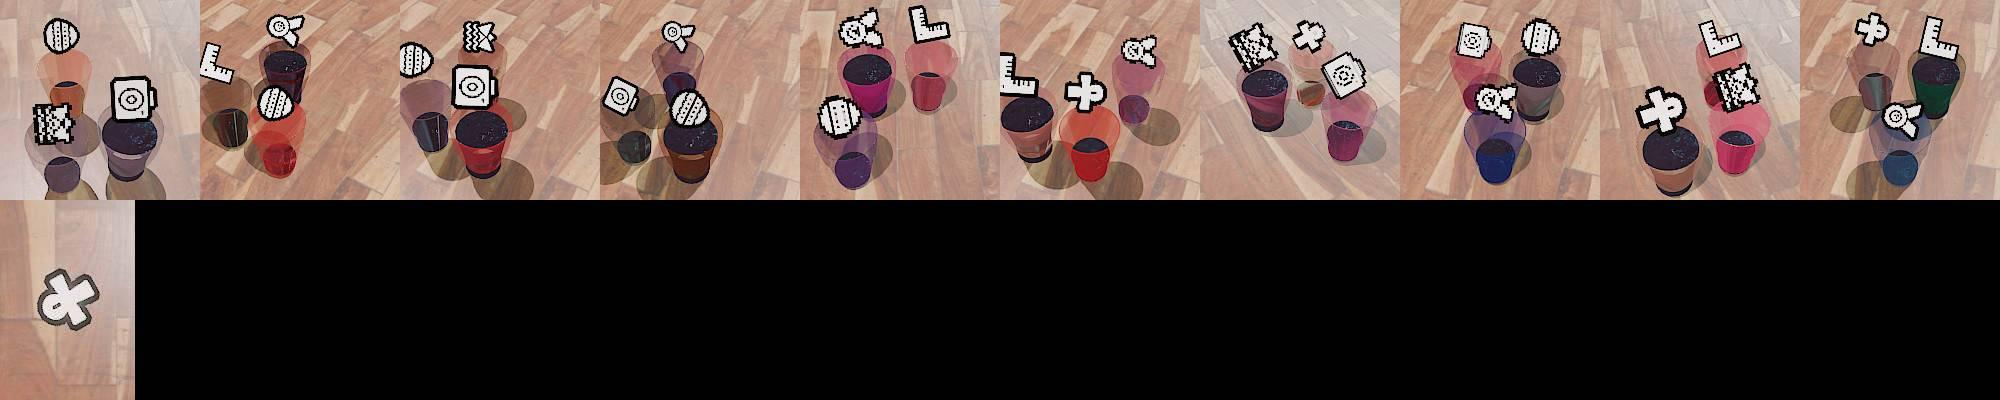icon: (36, 268, 101, 330), (1635, 85, 1689, 135), (1713, 61, 1764, 112), (1321, 51, 1370, 101), (1230, 22, 1277, 73), (110, 75, 157, 122), (1917, 14, 1960, 62), (1064, 69, 1108, 115), (452, 64, 496, 110), (816, 92, 861, 136), (838, 6, 884, 50), (999, 51, 1041, 98), (32, 102, 75, 146), (1696, 18, 1742, 60), (908, 4, 952, 46), (602, 75, 642, 120), (1472, 82, 1518, 120), (1881, 99, 1923, 139), (200, 41, 236, 85), (670, 89, 709, 127), (267, 13, 306, 50), (398, 42, 435, 80), (256, 85, 295, 122), (43, 18, 80, 55), (1457, 22, 1492, 60), (1523, 19, 1559, 56), (1855, 10, 1890, 47), (661, 18, 696, 54), (1291, 20, 1327, 54), (463, 20, 496, 55), (1121, 36, 1156, 65)
